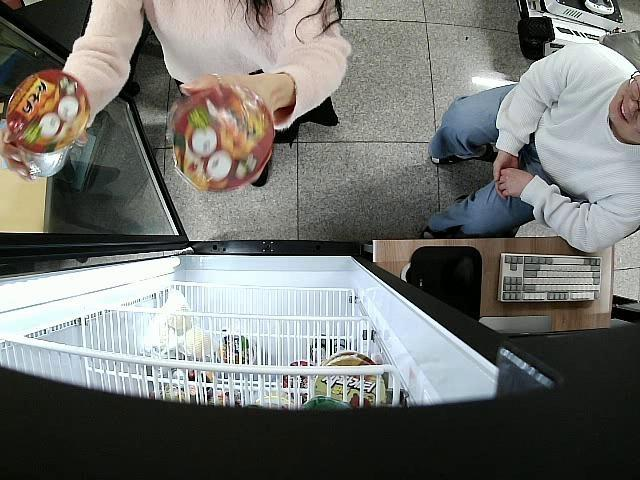06_nuguri_S: (166, 84, 274, 194), (7, 72, 90, 178)
